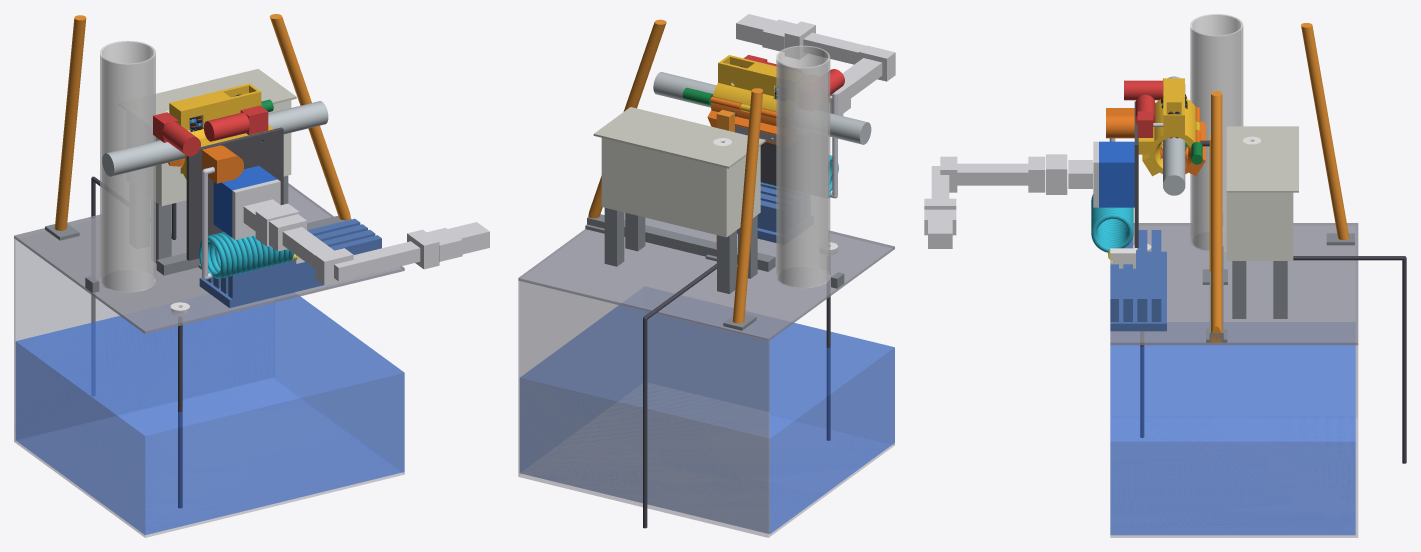
Rendered from water-assembly-v1.glb.
The picture shows the model from 3 angles, left to right: view 1: azimuth 30°, elevation 25°; view 2: azimuth 150°, elevation 25°; view 3: azimuth 270°, elevation 25°; orthographic projection. The views are drawn at different scales.
Parts seen in each view (by area): view 1: water_volume, tank, growing_pipe, lid, cart_so101_arm_envelope, lower_aframe_and_back_strut_16mm, seedling_storage, cart_base_plate, cart_track_pipe_B, cart_hand_on_pipe_B_sleeve, sampler_pu_coil, ws_roof (+12 smaller); view 2: water_volume, tank, lid, growing_pipe, ws_shell, cart_so101_arm_envelope, ws_roof, lower_aframe_and_back_strut_16mm, ws_legs, cart_hand_on_pipe_B_sleeve, base_bar_and_lid_plates, cart_track_pipe_B (+6 smaller); view 3: water_volume, tank, lid, growing_pipe, cart_so101_arm_envelope, lower_aframe_and_back_strut_16mm, ws_roof, seedling_storage, ws_shell, cart_hand_on_pipe_B_sleeve, cart_battery, sampler_pu_coil (+8 smaller).
Part boxes in pixels (x1,y1,x2,y2): water_volume: (15, 296, 404, 534); tank: (14, 218, 404, 537); growing_pipe: (100, 40, 155, 292); lid: (14, 183, 404, 334); cart_so101_arm_envelope: (232, 179, 489, 285); lower_aframe_and_back_strut_16mm: (54, 14, 350, 230); seedling_storage: (199, 218, 381, 307); cart_base_plate: (186, 127, 283, 260); cart_track_pipe_B: (102, 101, 328, 176); cart_hand_on_pipe_B_sleeve: (169, 83, 273, 179); sampler_pu_coil: (199, 232, 293, 278); ws_roof: (154, 68, 296, 114); water_volume: (520, 305, 894, 533); tank: (518, 280, 894, 537); lid: (518, 212, 894, 341); growing_pipe: (776, 45, 830, 288); ws_shell: (601, 138, 760, 237); cart_so101_arm_envelope: (736, 14, 895, 115); ws_roof: (593, 107, 765, 168); lower_aframe_and_back_strut_16mm: (588, 19, 762, 323); ws_legs: (604, 208, 757, 293); cart_hand_on_pipe_B_sleeve: (713, 55, 777, 112); base_bar_and_lid_plates: (585, 214, 844, 330); cart_track_pipe_B: (653, 72, 871, 144); water_volume: (1110, 345, 1355, 535); tank: (1110, 226, 1358, 537); lid: (1110, 223, 1358, 345); growing_pipe: (1190, 14, 1243, 251); cart_so101_arm_envelope: (924, 141, 1098, 248); lower_aframe_and_back_strut_16mm: (1211, 23, 1349, 342); ws_roof: (1226, 126, 1298, 192); seedling_storage: (1110, 230, 1166, 331); ws_shell: (1226, 192, 1293, 260); cart_hand_on_pipe_B_sleeve: (1138, 78, 1200, 176); cart_battery: (1099, 141, 1134, 207); sampler_pu_coil: (1091, 194, 1133, 252).
Bounding box in the file's own units: 405 × 640 × 680.
